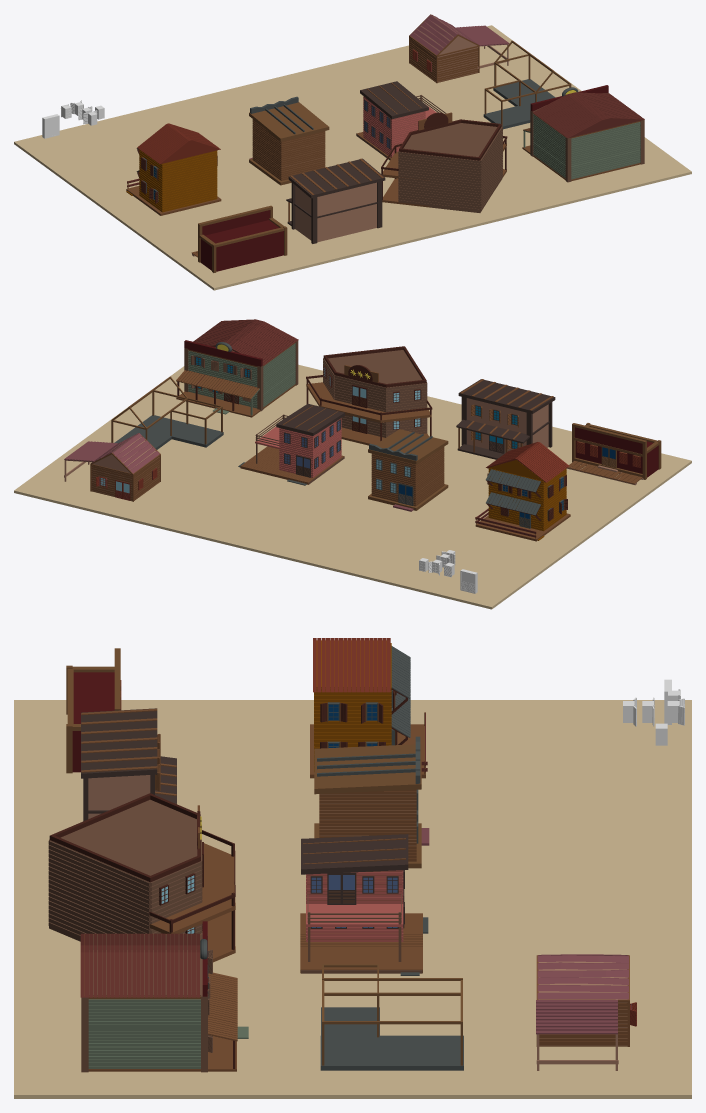
File: Cowboydorf.fbx
3 views of the same model, one above another, from view 1: azimuth 30°, elevation 25°; view 2: azimuth 150°, elevation 25°; view 3: azimuth 270°, elevation 25° (orthographic). The views are drawn at different scales.
Visible parts, largest first — view 1: Cube, Cube.014, Cube.020, Cube.008, Cube.011, Cube.009, Cube.017, Cube.004, Cube.074, Cube.028; view 2: Cube, Cube.020, Cube.014, Cube.011, Cube.008, Cube.074, Cube.009, Cube.004, Cube.017, Cube.028; view 3: Cube, Cube.014, Cube.020, Cube.074, Cube.011, Cube.009, Cube.004, Cube.028, Cube.008, Cube.017.
Part boxes in pixels (bbox=[...]): Cube: bbox=[14, 25, 691, 290]; Cube.014: bbox=[381, 112, 507, 212]; Cube.020: bbox=[522, 85, 644, 182]; Cube.008: bbox=[286, 158, 385, 243]; Cube.011: bbox=[126, 123, 221, 215]; Cube.009: bbox=[249, 96, 329, 185]; Cube.017: bbox=[191, 205, 287, 272]; Cube.004: bbox=[409, 14, 509, 83]; Cube.074: bbox=[356, 81, 446, 160]; Cube.028: bbox=[483, 40, 571, 129]; Cube: bbox=[14, 364, 691, 609]; Cube.020: bbox=[176, 319, 298, 417]; Cube.014: bbox=[306, 346, 432, 445]; Cube.011: bbox=[475, 442, 570, 541]; Cube.008: bbox=[456, 379, 555, 459]; Cube.074: bbox=[238, 403, 344, 485]; Cube.009: bbox=[368, 429, 448, 511]; Cube.004: bbox=[64, 433, 160, 501]; Cube.017: bbox=[566, 423, 661, 485]; Cube.028: bbox=[111, 376, 223, 449]; Cube: bbox=[14, 700, 691, 1098]; Cube.014: bbox=[48, 793, 235, 962]; Cube.020: bbox=[80, 921, 248, 1072]; Cube.074: bbox=[300, 834, 428, 975]; Cube.011: bbox=[310, 638, 427, 778]; Cube.009: bbox=[314, 736, 429, 868]; Cube.004: bbox=[536, 954, 636, 1070]; Cube.028: bbox=[320, 964, 463, 1070]; Cube.008: bbox=[81, 708, 176, 821]; Cube.017: bbox=[66, 648, 121, 773].
Bounding box in the file's own units: 3913 × 561 × 2839.
